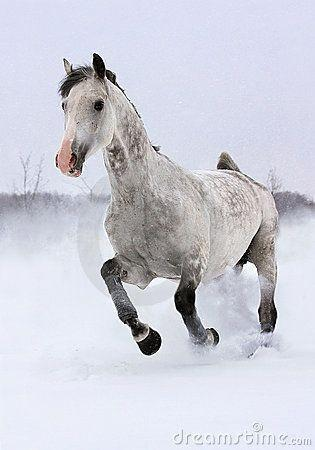horse: (54, 52, 280, 356)
